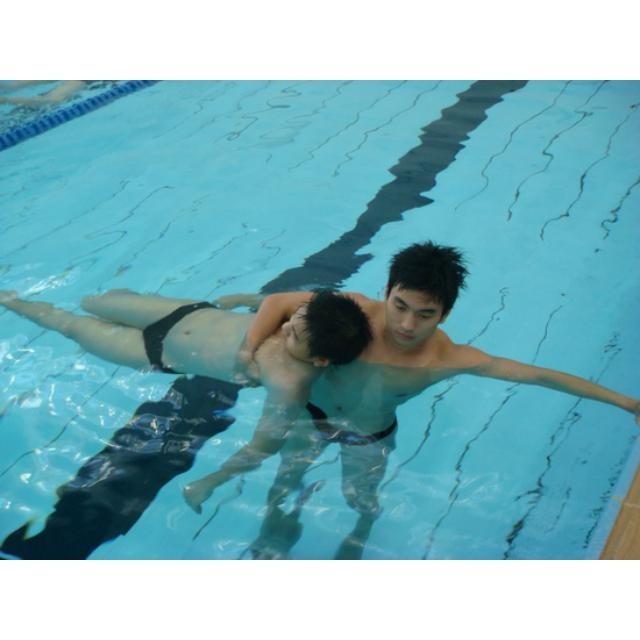human: (265, 239, 639, 517), (16, 274, 366, 511)
